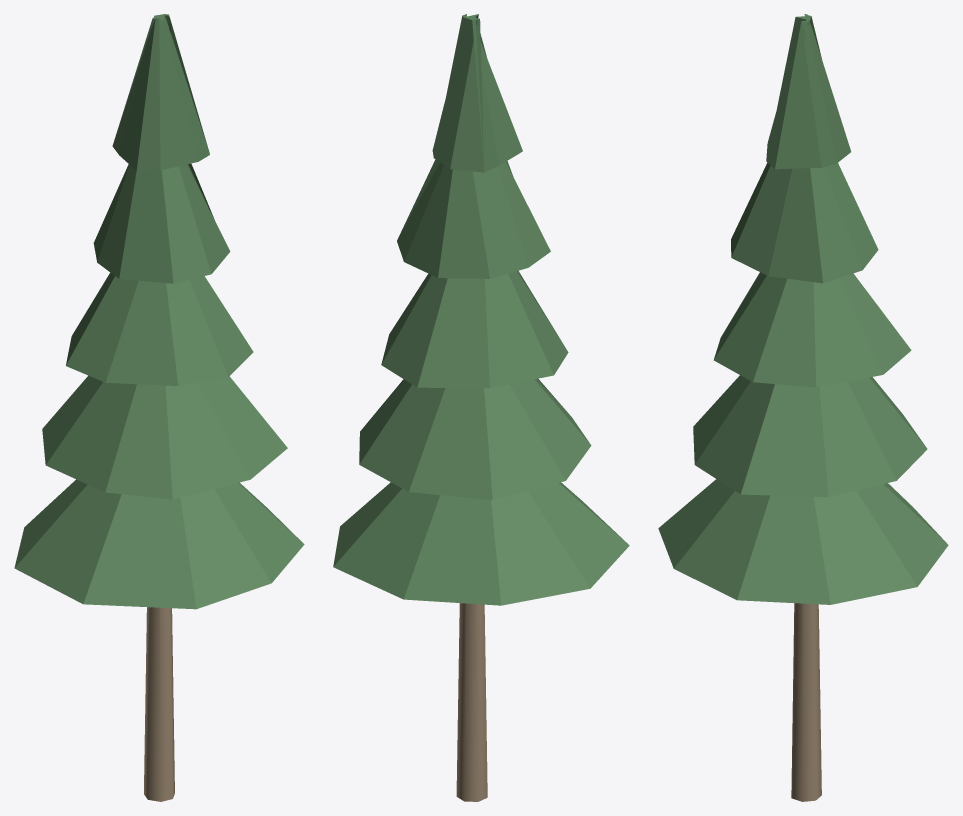
Rendered from pine.glb.
3 renders of one model, left to right at view 1: azimuth 30°, elevation 25°; view 2: azimuth 150°, elevation 25°; view 3: azimuth 270°, elevation 25°, orthographic.
Parts seen in each view (by area): view 1: pine; view 2: pine; view 3: pine.
Boxes of the visible parts, left/top/right/bottom form: pine: left=14, top=14, right=304, bottom=801; pine: left=333, top=14, right=629, bottom=801; pine: left=658, top=14, right=948, bottom=801.
Size of the model in its own units: 5.08 by 15 by 5.07.
